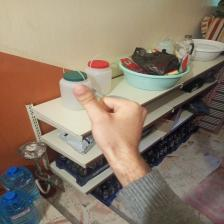five: (67, 78, 151, 166)
